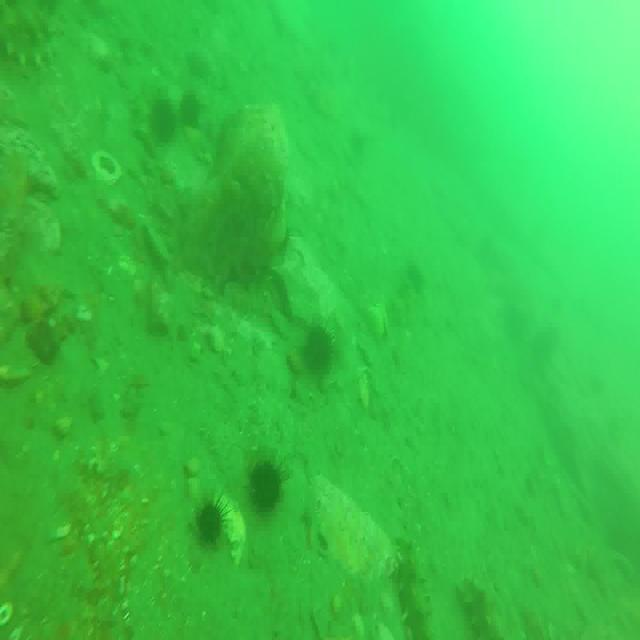echinus: (250, 459, 282, 512), (308, 324, 336, 376), (196, 496, 223, 546), (151, 99, 176, 143), (179, 88, 201, 129)
holothurian: (396, 538, 430, 640), (461, 570, 503, 640)
